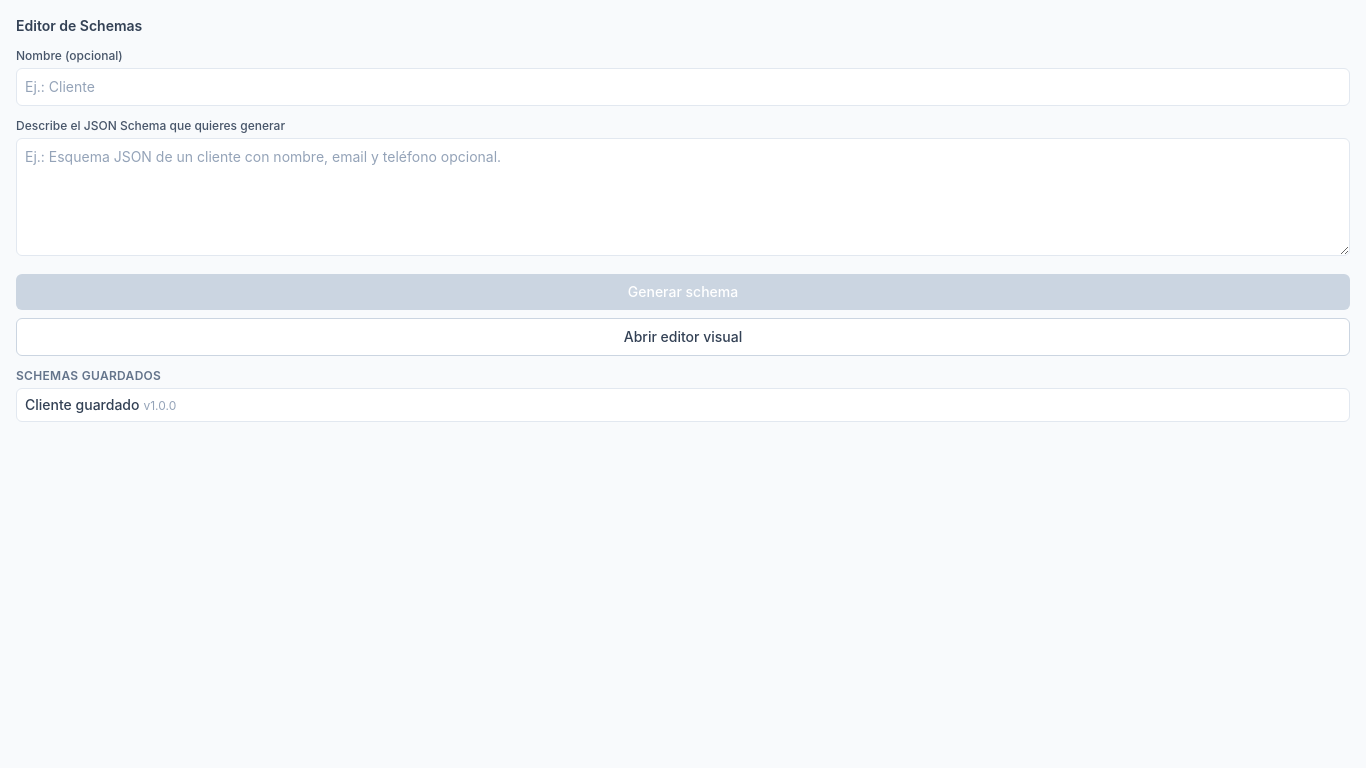
DeveloperSchemaPanel › muestra el error de carga de versiones de forma accesible
Click the button "Cliente guardado" at (82, 404), box [16,388,1350,422]
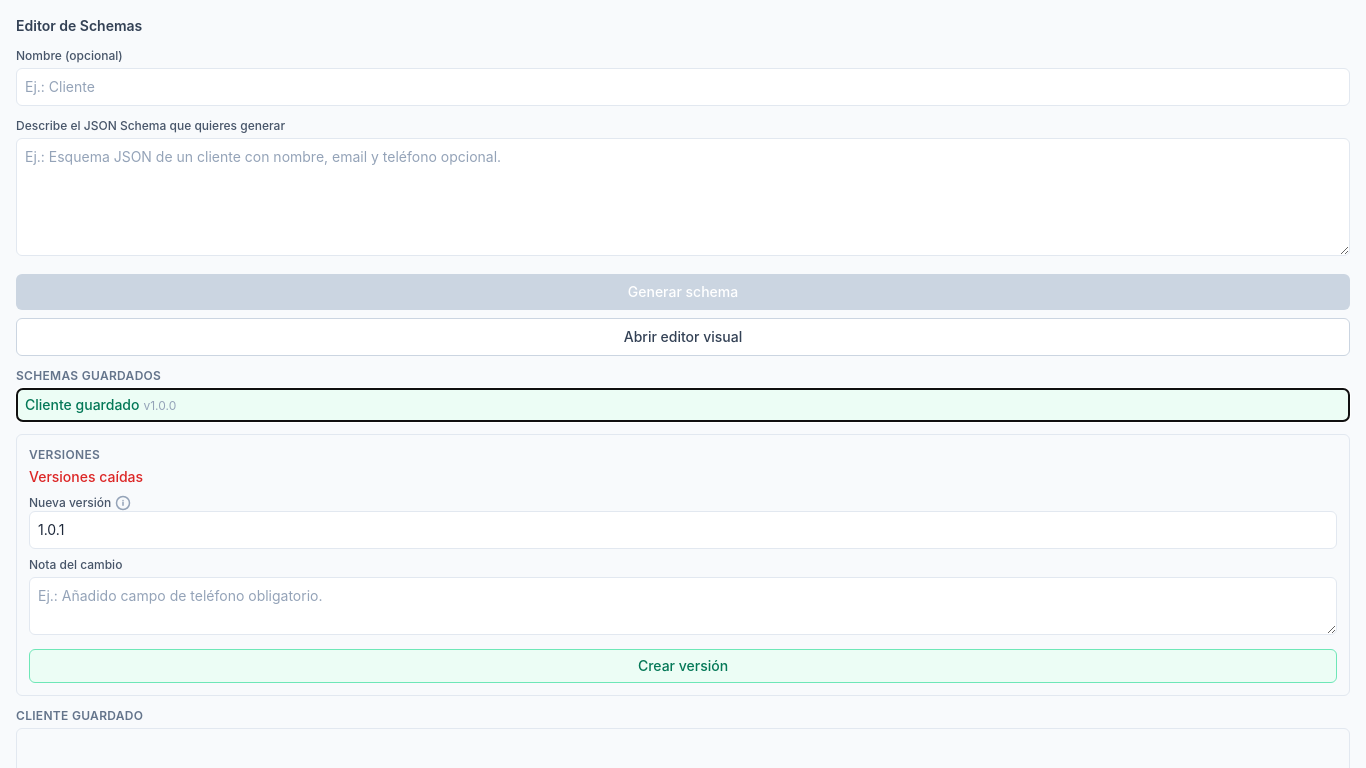
Result: the message reads "Versiones caídas" at [29,468,143,485]
